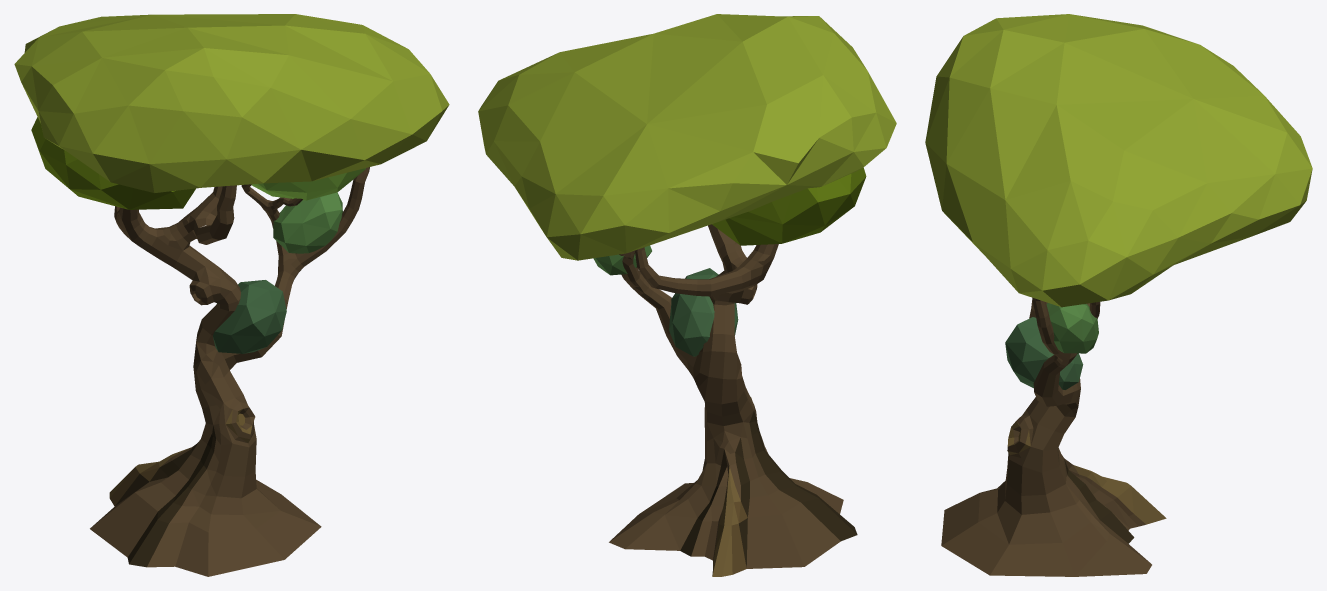
The model's file is EA01_Env_Tree_01c_PRE.glb.
The picture shows the model from 3 angles, left to right: view 1: azimuth 30°, elevation 25°; view 2: azimuth 150°, elevation 25°; view 3: azimuth 270°, elevation 25°; orthographic projection.
Visible parts, largest first — view 1: EA01_Env_Tree_01c; view 2: EA01_Env_Tree_01c; view 3: EA01_Env_Tree_01c.
Boxes of the visible parts, bbox=[...] form: EA01_Env_Tree_01c: bbox=[14, 14, 449, 576]; EA01_Env_Tree_01c: bbox=[478, 14, 896, 576]; EA01_Env_Tree_01c: bbox=[925, 14, 1312, 576].
Size of the model in its own units: 8.44 by 10.35 by 7.35.
Materials: 1 (1 with a texture image).
